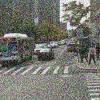buses: (0, 31, 34, 66)
stairs: (85, 77, 100, 99)
